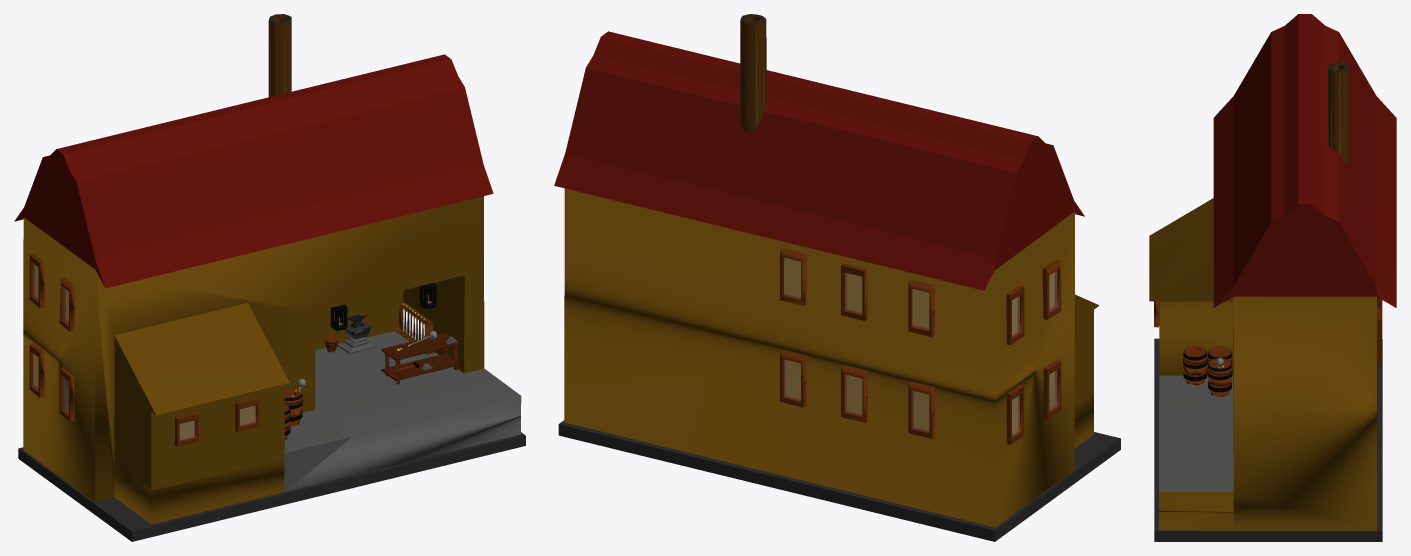
The model's file is blacksmithcentered.fbx.
3 renders of one model, left to right at view 1: azimuth 30°, elevation 25°; view 2: azimuth 150°, elevation 25°; view 3: azimuth 270°, elevation 25°, orthographic. The views are drawn at different scales.
Visible parts, largest first — view 1: Cube; view 2: Cube; view 3: Cube.
Part boxes in pixels (box(x1,y1,x2,y2)): Cube: box(14, 14, 525, 541); Cube: box(554, 14, 1120, 541); Cube: box(1149, 14, 1396, 541).
Bounding box in the file's own units: 4042 × 3858 × 2167.
